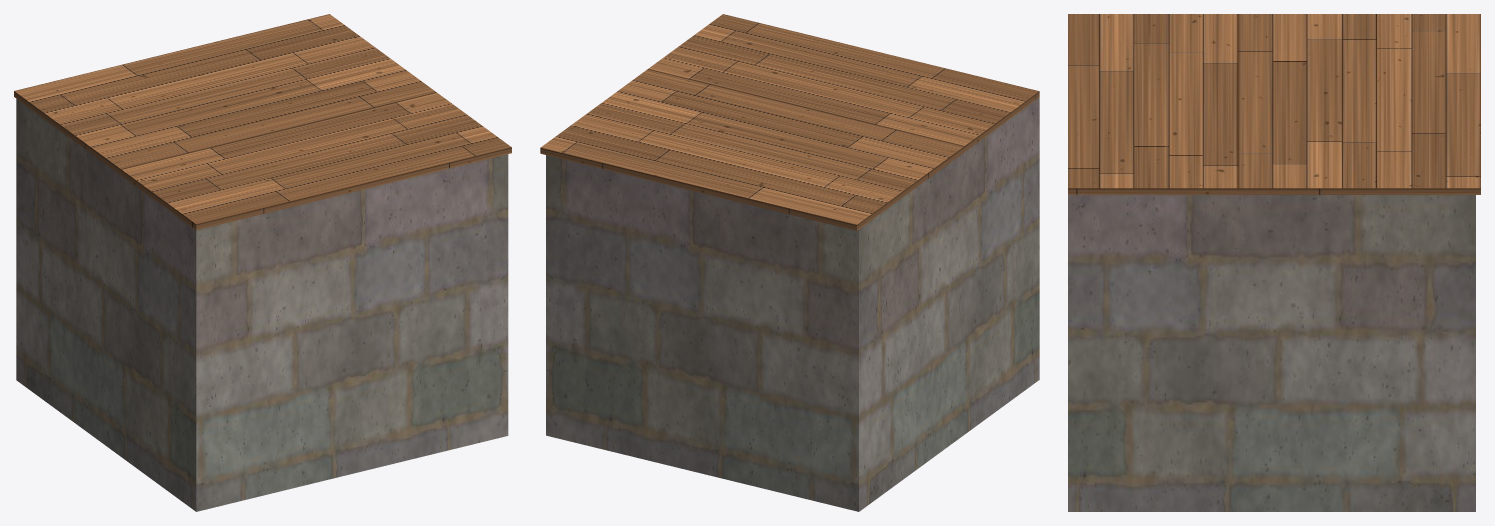
Rendered from floor_wood_g_e30_0_0_30.glb.
3 views of the same model, side by side, from view 1: azimuth 30°, elevation 25°; view 2: azimuth 150°, elevation 25°; view 3: azimuth 270°, elevation 25° (orthographic). The views are drawn at different scales.
Visible parts, largest first — view 1: floor_wood_g_e30_0_0_30_plinth, floor_wood_g_e30_0_0_30_floor; view 2: floor_wood_g_e30_0_0_30_plinth, floor_wood_g_e30_0_0_30_floor; view 3: floor_wood_g_e30_0_0_30_plinth, floor_wood_g_e30_0_0_30_floor.
Part boxes in pixels (x1,y1,x2,y2): floor_wood_g_e30_0_0_30_plinth: (16, 99, 508, 511); floor_wood_g_e30_0_0_30_floor: (14, 14, 511, 229); floor_wood_g_e30_0_0_30_plinth: (546, 97, 1039, 511); floor_wood_g_e30_0_0_30_floor: (540, 14, 1039, 230); floor_wood_g_e30_0_0_30_plinth: (1068, 195, 1475, 511); floor_wood_g_e30_0_0_30_floor: (1068, 14, 1480, 194).
Size of the model in its own units: 1.7 by 1.48 by 1.7.
2 materials, 2 textured.
